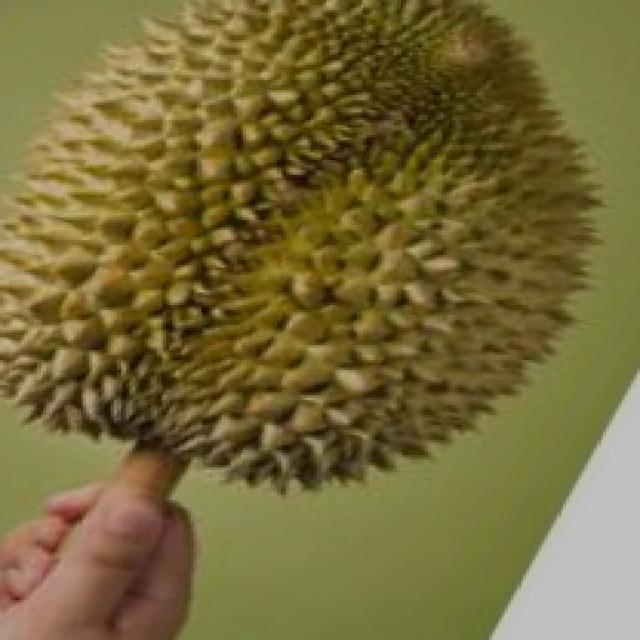fruit: (0, 185, 348, 580)
